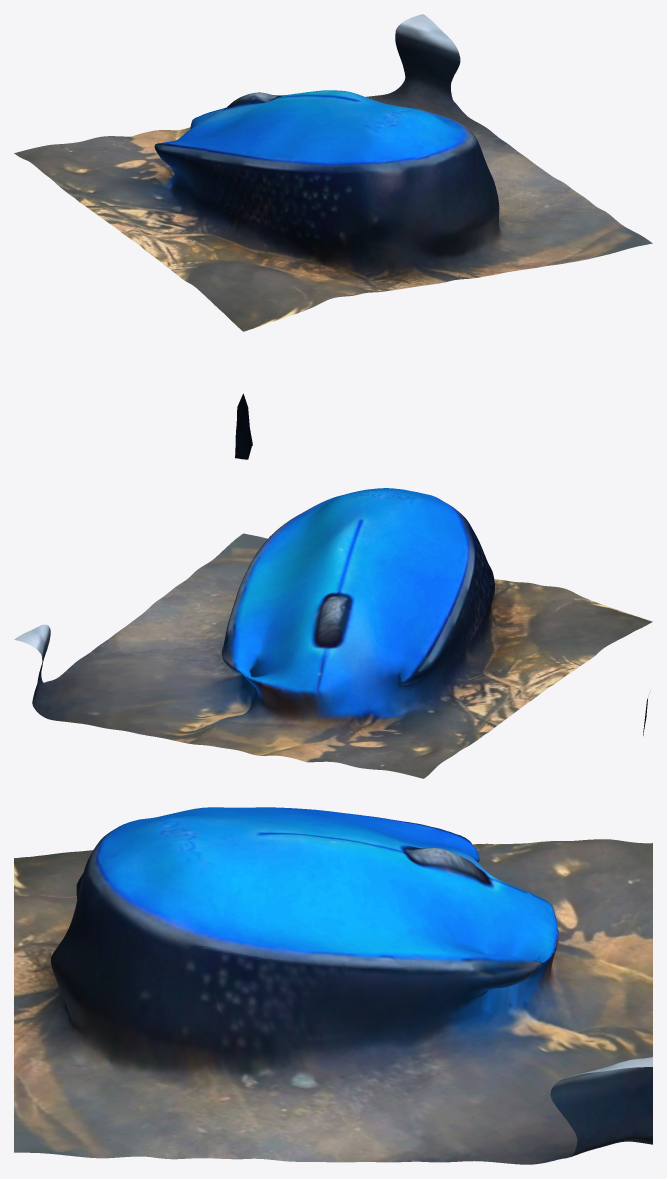
File: 3DModel.glb
3 views of the same model, one above another, from view 1: azimuth 30°, elevation 25°; view 2: azimuth 150°, elevation 25°; view 3: azimuth 270°, elevation 25° (orthographic). The views are drawn at different scales.
Visible parts, largest first — view 1: Node1; view 2: Node1; view 3: Node1.
Part boxes in pixels (x1=…): Node1: x1=14, y1=14, x2=652, y2=459; Node1: x1=14, y1=488, x2=652, y2=778; Node1: x1=14, y1=807, x2=652, y2=1164.
Bounding box in the file's own units: 0.7704 × 0.4533 × 0.7471.
1 material, 1 textured.
